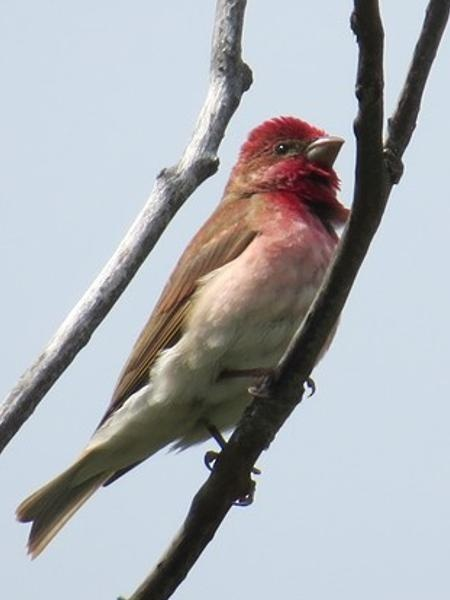rosefinch: (29, 89, 372, 528)
